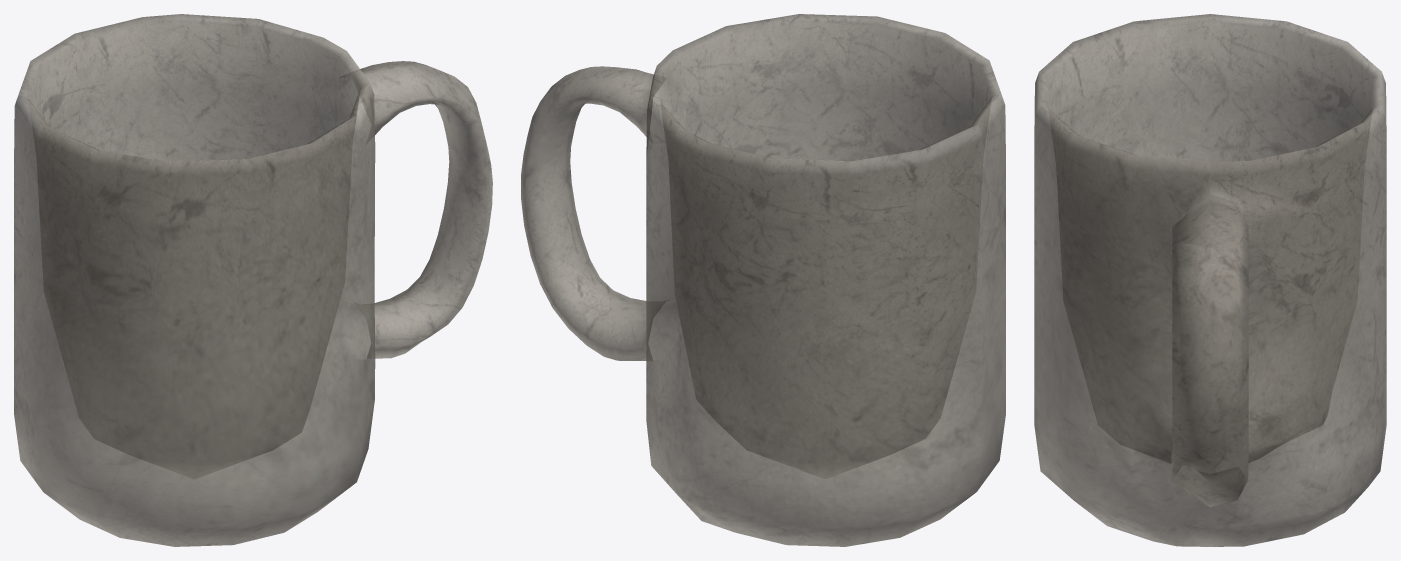
The model's file is CoffeMug.fbx.
3 views of the same model, side by side, from view 1: azimuth 30°, elevation 25°; view 2: azimuth 150°, elevation 25°; view 3: azimuth 270°, elevation 25° (orthographic).
Visible parts, largest first — view 1: CRATE; view 2: CRATE; view 3: CRATE.
Part boxes in pixels (<box>): CRATE: <box>14,14,492,546</box>; CRATE: <box>521,14,1005,546</box>; CRATE: <box>1034,14,1386,546</box>.
Bounding box in the file's own units: 247 × 213 × 167.
Materials: 1 (1 with a texture image).
